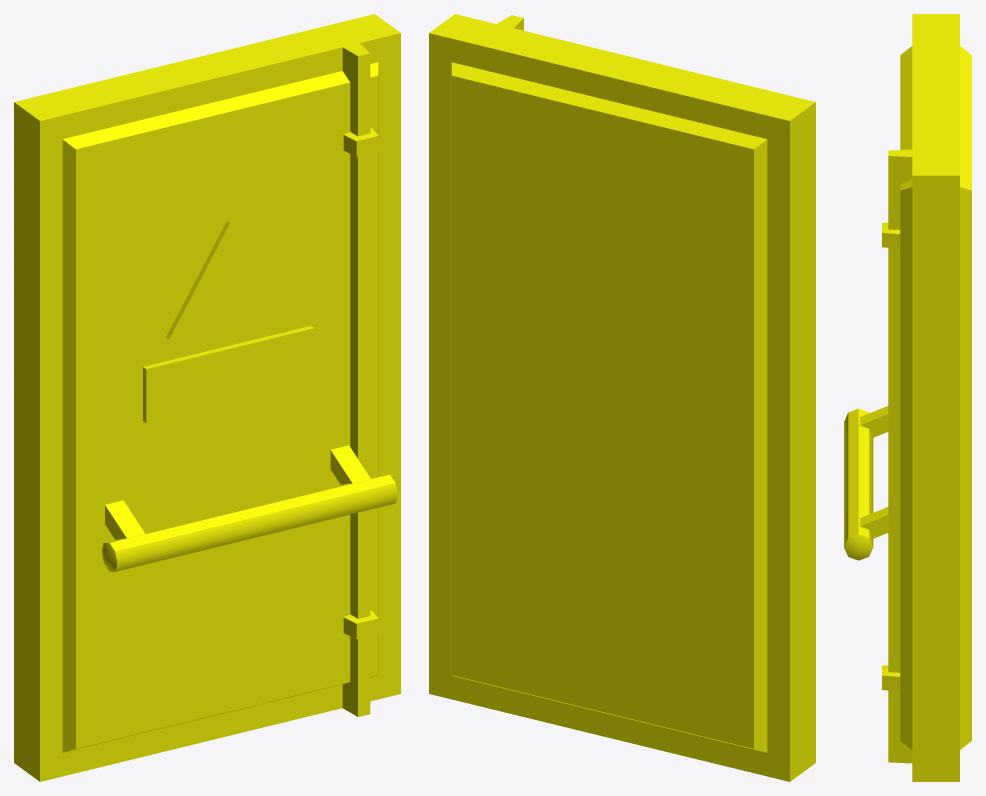
File: kaykit-door-b.glb
The picture shows the model from 3 angles, left to right: view 1: azimuth 30°, elevation 25°; view 2: azimuth 150°, elevation 25°; view 3: azimuth 270°, elevation 25°; orthographic projection. The views are drawn at different scales.
Visible parts, largest first — view 1: Door_B; view 2: Door_B; view 3: Door_B.
Part boxes in pixels (bbox=[...]): Door_B: bbox=[14, 14, 400, 781]; Door_B: bbox=[429, 14, 815, 781]; Door_B: bbox=[844, 14, 971, 781].
Size of the model in its own units: 1.6 by 2.8 by 0.5356.
